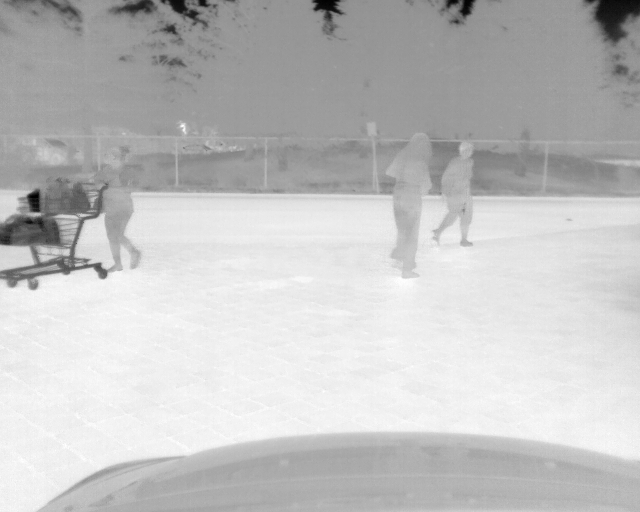people: (383, 129, 432, 278), (85, 146, 142, 273), (434, 140, 476, 248)
